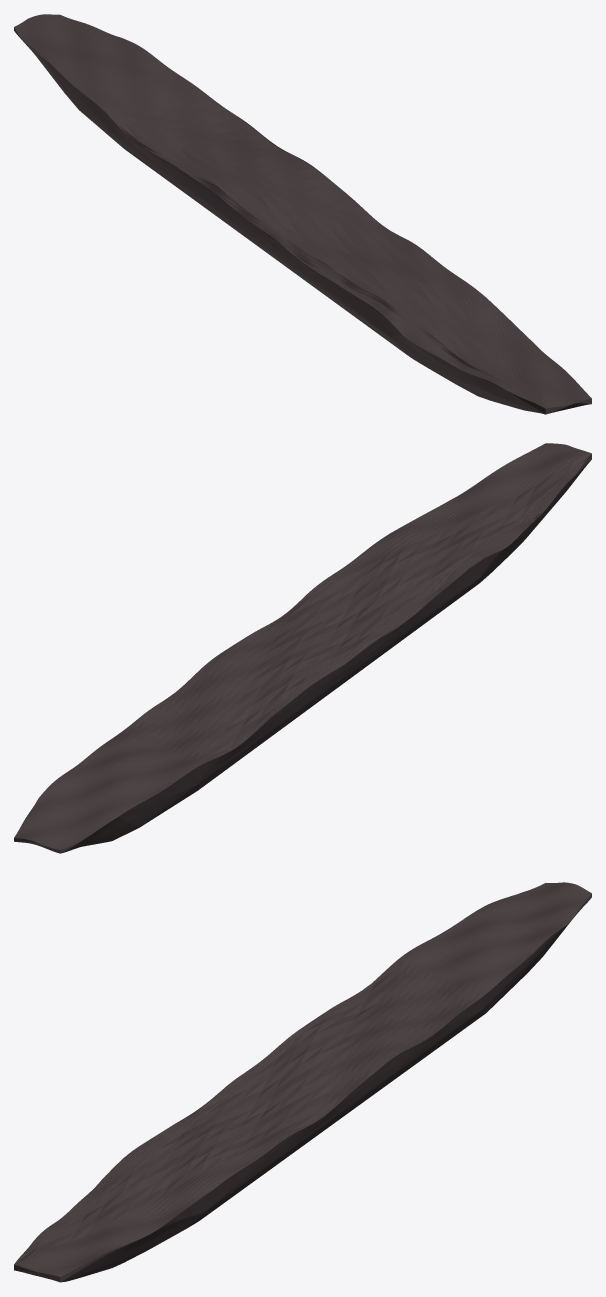
Rendered from asteroid-basalte.glb.
The picture shows the model from 3 angles, top to bottom: view 1: azimuth 30°, elevation 25°; view 2: azimuth 150°, elevation 25°; view 3: azimuth 330°, elevation 25°; orthographic projection.
Parts seen in each view (by area): view 1: Asteroide_plein_basalte; view 2: Asteroide_plein_basalte; view 3: Asteroide_plein_basalte.
Part boxes in pixels (bbox=[...]): Asteroide_plein_basalte: bbox=[14, 14, 591, 414]; Asteroide_plein_basalte: bbox=[14, 443, 591, 853]; Asteroide_plein_basalte: bbox=[14, 882, 591, 1282].
Bounding box in the file's own units: 13 × 4.95 × 120.
Materials: 1 (1 with a texture image).
